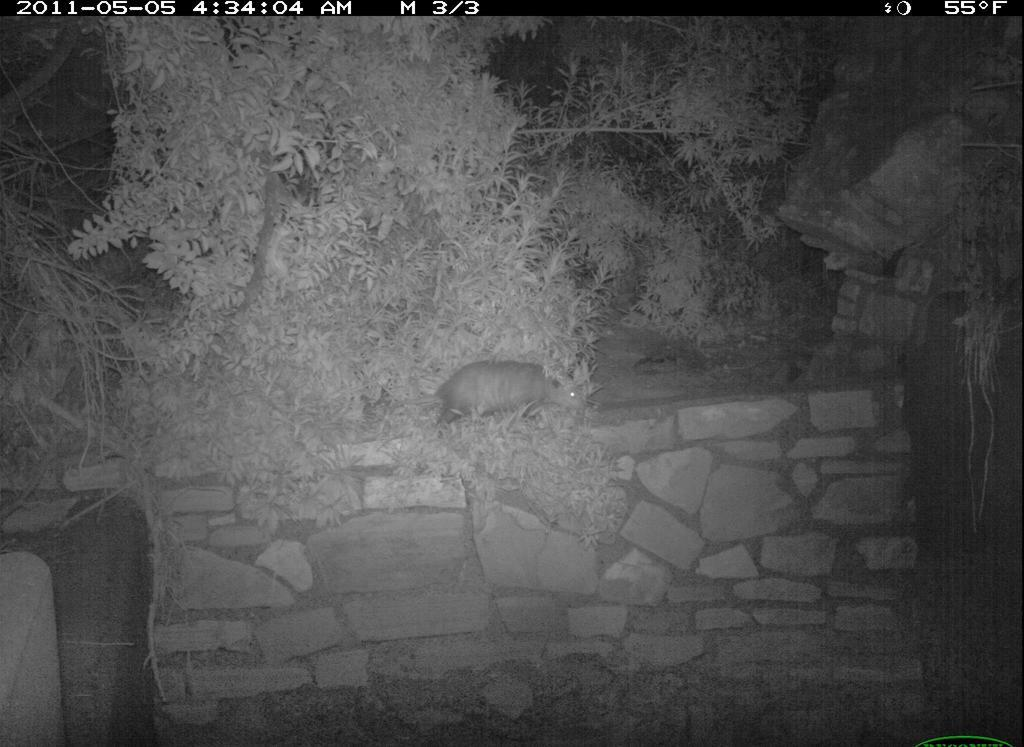opossum: (382, 355, 591, 446)
